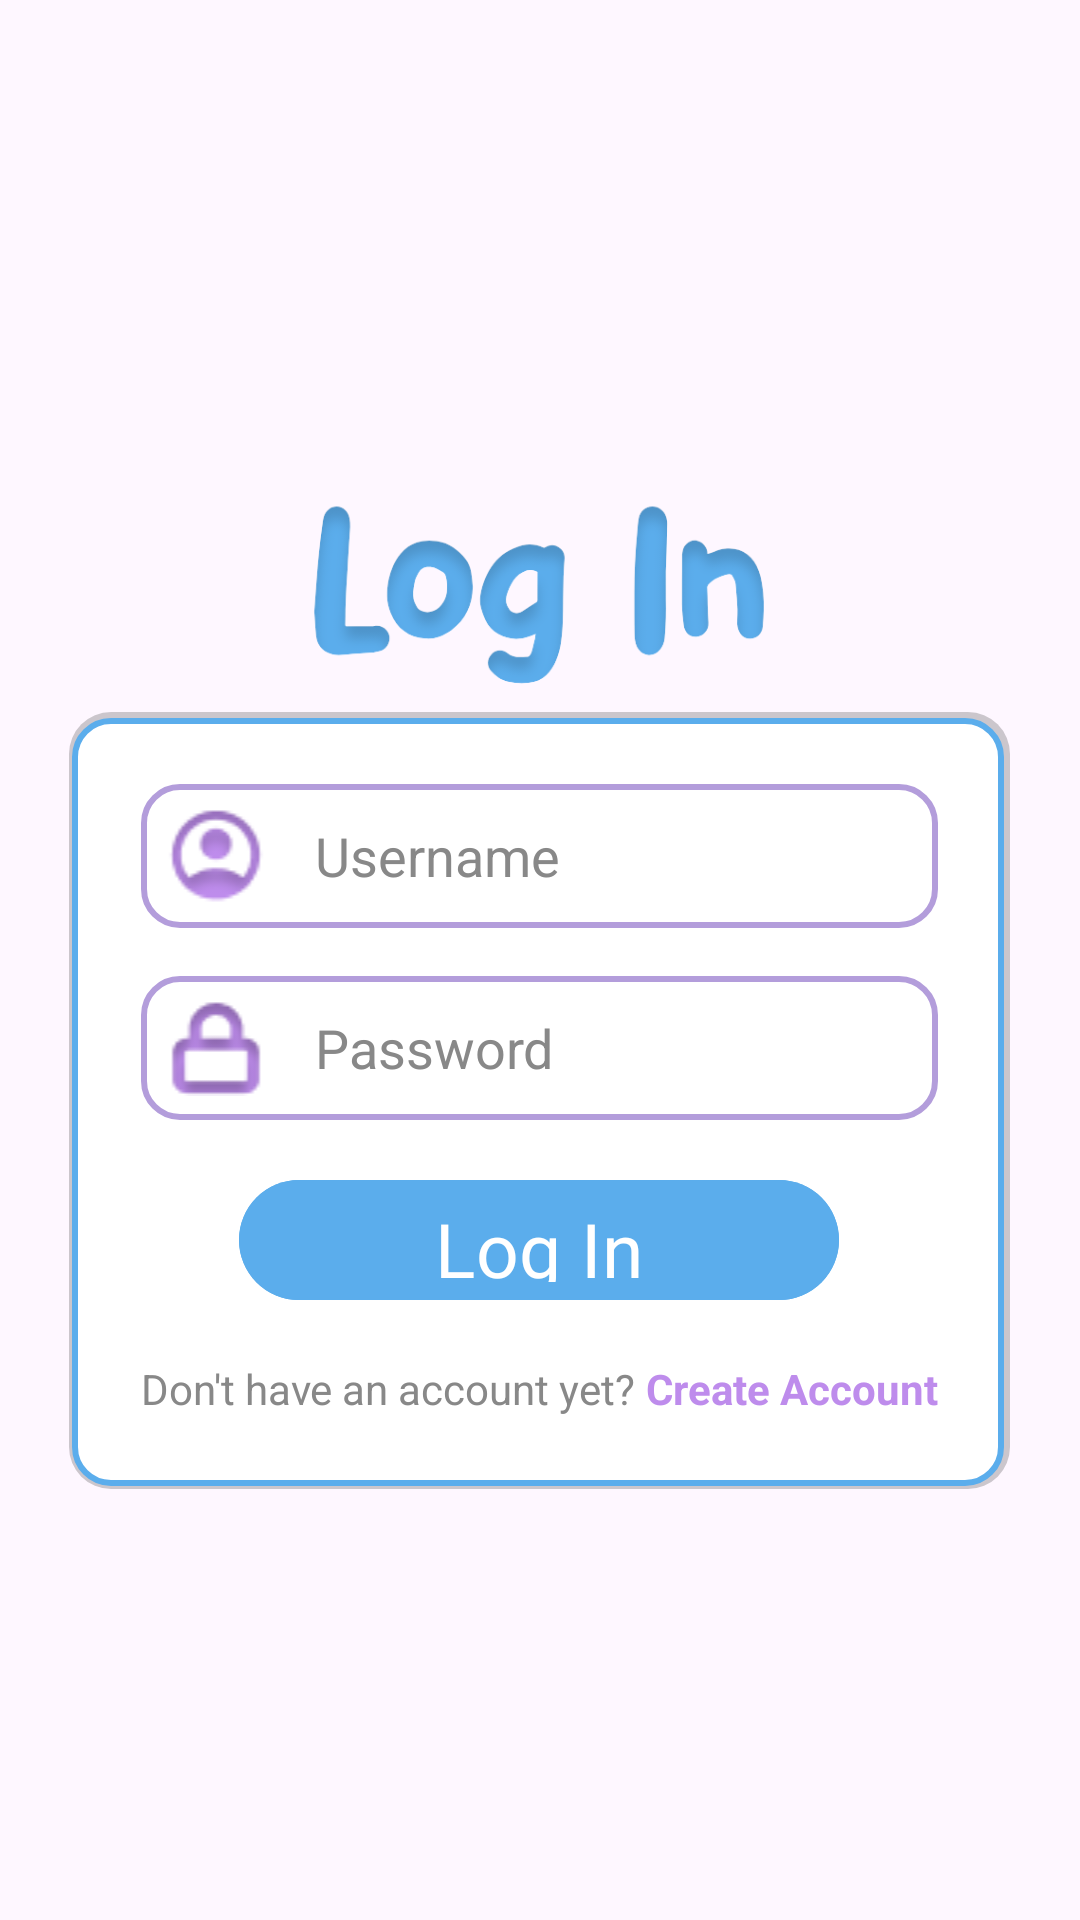

Icon bounding boxes for this 1080 × 1920 phone screenshot, format Rect(x1, y1, x2, y2):
account: Rect(171, 810, 261, 901)
